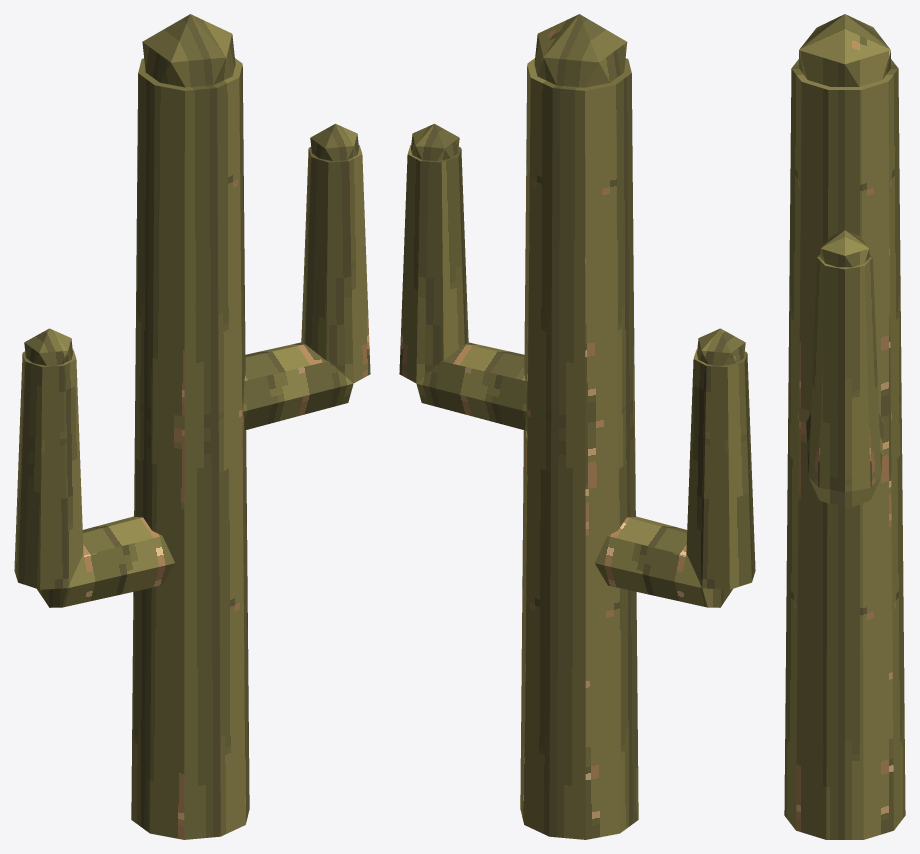
The model's file is arvore.glb.
3 renders of one model, left to right at view 1: azimuth 30°, elevation 25°; view 2: azimuth 150°, elevation 25°; view 3: azimuth 270°, elevation 25°, orthographic.
Parts seen in each view (by area): view 1: deserto_arvore; view 2: deserto_arvore; view 3: deserto_arvore.
Boxes of the visible parts, <box> form: deserto_arvore: <box>14,14,370,839</box>; deserto_arvore: <box>399,14,755,839</box>; deserto_arvore: <box>784,14,905,839</box>.
Bounding box in the file's own units: 0.866 × 1.9 × 0.26.
1 material, 1 textured.
